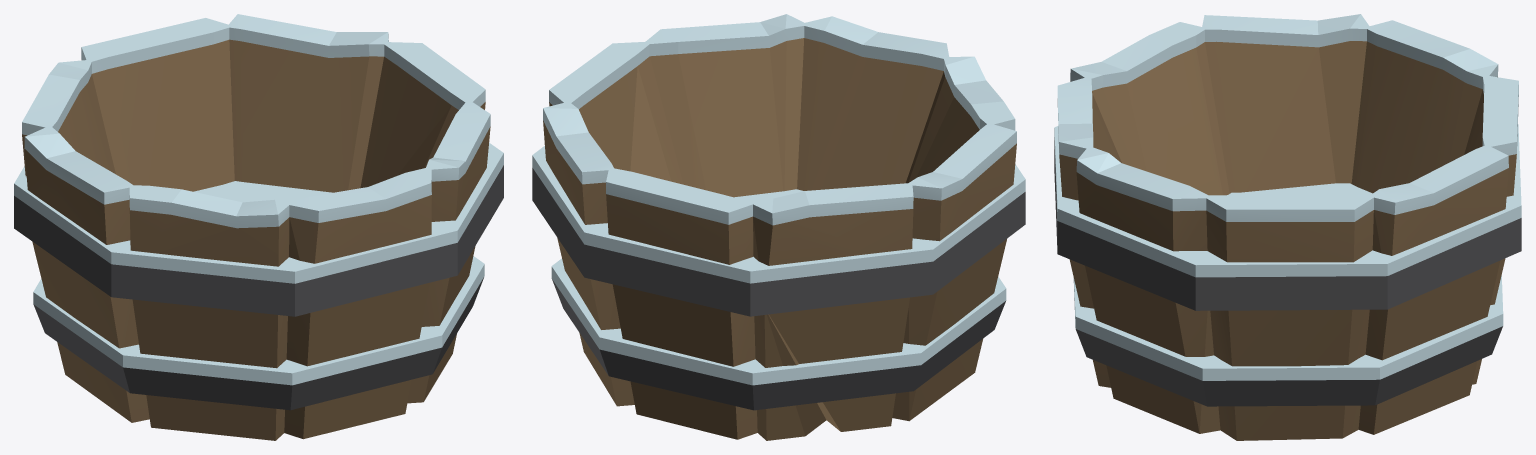
The model's file is Barril_MItad01.glb.
The picture shows the model from 3 angles, left to right: view 1: azimuth 30°, elevation 25°; view 2: azimuth 150°, elevation 25°; view 3: azimuth 270°, elevation 25°; orthographic projection.
Visible parts, largest first — view 1: SM_Prop_Barrel_Half_01_Snow; view 2: SM_Prop_Barrel_Half_01_Snow; view 3: SM_Prop_Barrel_Half_01_Snow.
Part boxes in pixels (bbox=[...]): SM_Prop_Barrel_Half_01_Snow: bbox=[14, 14, 503, 440]; SM_Prop_Barrel_Half_01_Snow: bbox=[532, 14, 1025, 440]; SM_Prop_Barrel_Half_01_Snow: bbox=[1054, 14, 1521, 440].
Size of the model in its own units: 0.8425 by 0.5002 by 0.8425.
Materials: 1 (1 with a texture image).
